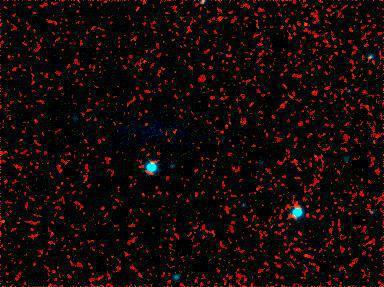star: (292, 8, 322, 38)
